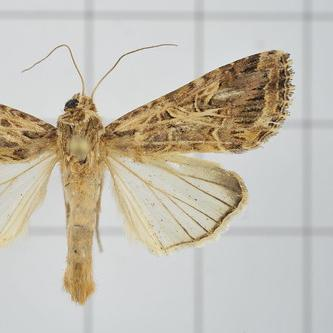Spodoptera litura: (1, 44, 295, 306)
